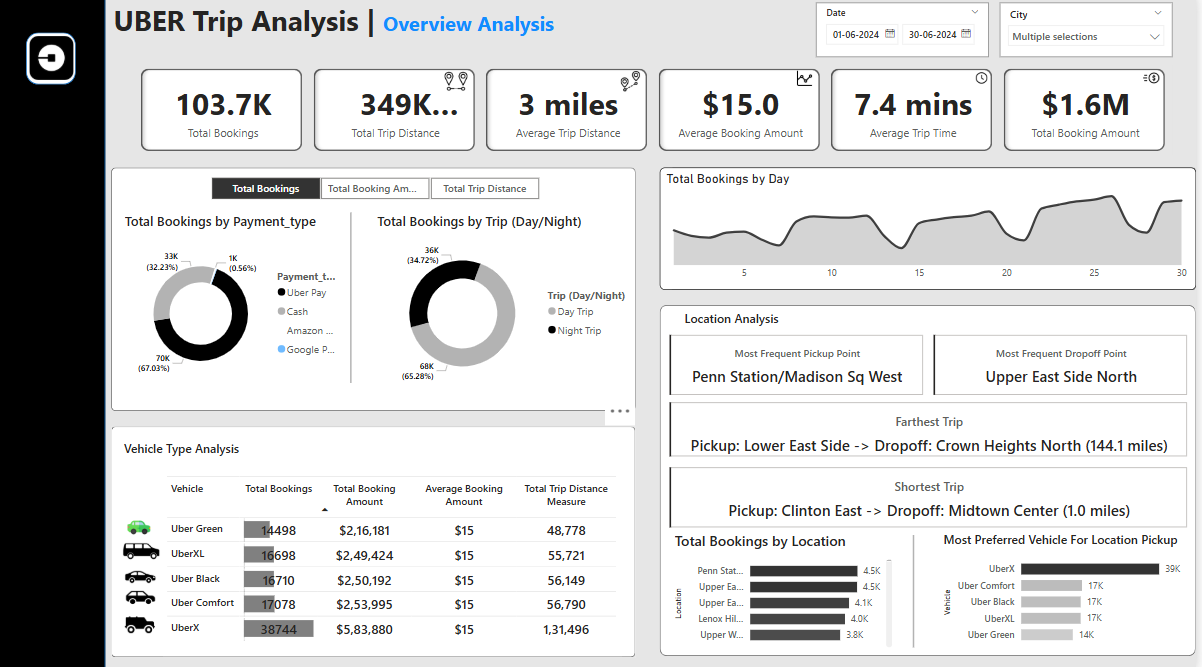

The page's visual inventory and layout, read from the dashboard file:
{"tool":"powerbi","page":{"name":"Overview Analysis","canvas":[1600,900],"ordinal":0},"visuals":[{"type":"shape","box":[2.5,0,142.5,900],"z":0},{"type":"textbox","box":[151.3,3.1,940.1,70.3],"z":1000},{"type":"cardVisual","fields":{"Data":["Trip Details.Total Bookings","Trip Details.Total Trip Distance","Trip Details.Average Trip Distance","Trip Details.Average Booking Amount","Trip Details.Average Trip Time","Trip Details.Total Booking Amount"]},"box":[187.5,92.5,1380,120],"z":2000},{"type":"image","box":[1518.3,95,43.3,31.7],"z":3000},{"type":"image","box":[593.3,93.3,40,43.3],"z":4000},{"type":"image","box":[828.3,93.3,36.7,43.3],"z":5000},{"type":"image","box":[1301.7,95,25,31.7],"z":6000},{"type":"shape","box":[152.5,230,700,325],"z":7000},{"type":"image","box":[1061.7,85,33.3,51.7],"z":8000},{"type":"slicer","fields":{"Values":["Dynamic Measure.Dynamic Measure"]},"box":[262,236,486,42],"z":9000},{"type":"donutChart","fields":{"Y":["Trip Details.Total Bookings"],"Category":["Trip Details.Payment_type"]},"box":[166.2,290,300,247.5],"z":10000},{"type":"donutChart","fields":{"Y":["Trip Details.Total Bookings"],"Category":["Trip Details.Trip Type (Day/Night)"]},"box":[502.9,290,347.1,247.1],"z":11000},{"type":"shape","box":[153.3,575,700,308.3],"z":12000},{"type":"pivotTable","fields":{"Rows":["Trip Details.Vehicle"],"Values":["Trip Details.Total Bookings","Trip Details.Total Booking Amount","Trip Details.Average Booking Amount","Trip Details.Total Trip Distance Measure"]},"box":[223.3,636.7,610,245],"z":13000},{"type":"image","box":[143.3,690,95,40],"z":14000},{"type":"image","box":[158.3,778.3,68.3,50],"z":15000},{"type":"image","box":[143.3,748.3,98.3,55],"z":16000},{"type":"image","box":[135,815,113.3,50],"z":17000},{"type":"image","box":[146.7,710,93.3,63.3],"z":18000},{"type":"card","fields":{"Values":["Trip Details.Title Grid"]},"box":[165,588.3,165,36.7],"z":19000},{"type":"shape","box":[900,230,700,163.3],"z":20000},{"type":"areaChart","fields":{"Category":["Calendar Table.Date.Variation.Date Hierarchy.Day"],"Y":["Trip Details.Total Bookings"]},"box":[885,230,715,163.3],"z":21000},{"type":"shape","box":[885,413.3,715,468.3],"z":22000},{"type":"cardVisual","fields":{"Data":["Location Table.Most Frequent Pickup Point","Location Table.Most Frequent Dropoff Point"]},"box":[892.5,447.5,700,90],"z":23000},{"type":"cardVisual","fields":{"Data":["Location Table.Farthest Trip"]},"box":[892.5,537.5,700,82.5],"z":24000},{"type":"cardVisual","fields":{"Data":["Location Table.Smallest Trip"]},"box":[892.5,625,700,90],"z":25000},{"type":"barChart","fields":{"Y":["Trip Details.Total Bookings"],"Category":["Location Table.Location"]},"box":[900,715,300,160],"z":26000},{"type":"barChart","title":"Most Preferred Vehicle For Location Pickup","fields":{"Category":["Trip Details.Vehicle"],"Y":["CountNonNull(Trip Details.PULocationID)"]},"box":[1257.5,715,335,160],"z":27000},{"type":"shape","box":[322.5,290,300,227.5],"z":28000},{"type":"shape","box":[1072.5,720,300,150],"z":29000},{"type":"card","fields":{"Values":["Trip Details.Title Grid 1"]},"box":[897.5,420,165,27.5],"z":30000},{"type":"slicer","fields":{"Values":["Calendar Table.Date"]},"box":[1092.5,10,230,72.5],"z":31000},{"type":"slicer","fields":{"Values":["Location Table.City"]},"box":[1337.5,10,230,72.5],"z":32000},{"type":"shape","box":[40.7,49.8,66.4,69.4],"z":33000},{"type":"image","box":[40.7,49.8,67.9,67.9],"z":34000}]}

Visuals, with their boxes in screenshot pixels (x1, y1, x2, y2), scaled from the page's 1600x900 canvas onto the 1202x667 screenshot:
shape: 2 0 109 666
textbox: 114 2 820 54
cardVisual - Trip Details.Total Bookings x Trip Details.Total Trip Distance: 141 69 1178 157
image: 1141 70 1173 94
image: 446 69 476 101
image: 622 69 650 101
image: 978 70 997 94
shape: 115 170 640 411
image: 798 63 823 101
slicer - Dynamic Measure.Dynamic Measure: 197 175 562 206
donutChart - Trip Details.Total Bookings x Trip Details.Payment_type: 125 215 350 398
donutChart - Trip Details.Total Bookings x Trip Details.Trip Type (Day/Night): 378 215 639 398
shape: 115 426 641 655
pivotTable - Trip Details.Vehicle x Trip Details.Total Bookings: 168 472 626 653
image: 108 511 179 541
image: 119 577 170 614
image: 108 555 182 595
image: 101 604 187 641
image: 110 526 180 573
card - Trip Details.Title Grid: 124 436 248 463
shape: 676 170 1201 291
areaChart - Calendar Table.Date.Variation.Date Hierarchy.Day x Trip Details.Total Bookings: 665 170 1201 291
shape: 665 306 1201 653
cardVisual - Location Table.Most Frequent Pickup Point x Location Table.Most Frequent Dropoff Point: 670 332 1196 398
cardVisual - Location Table.Farthest Trip: 670 398 1196 459
cardVisual - Location Table.Smallest Trip: 670 463 1196 530
barChart - Trip Details.Total Bookings x Location Table.Location: 676 530 902 648
"Most Preferred Vehicle For Location Pickup" barChart: 945 530 1196 648
shape: 242 215 468 384
shape: 806 534 1031 645
card - Trip Details.Title Grid 1: 674 311 798 332
slicer - Calendar Table.Date: 821 7 994 61
slicer - Location Table.City: 1005 7 1178 61
shape: 31 37 80 88
image: 31 37 82 87
